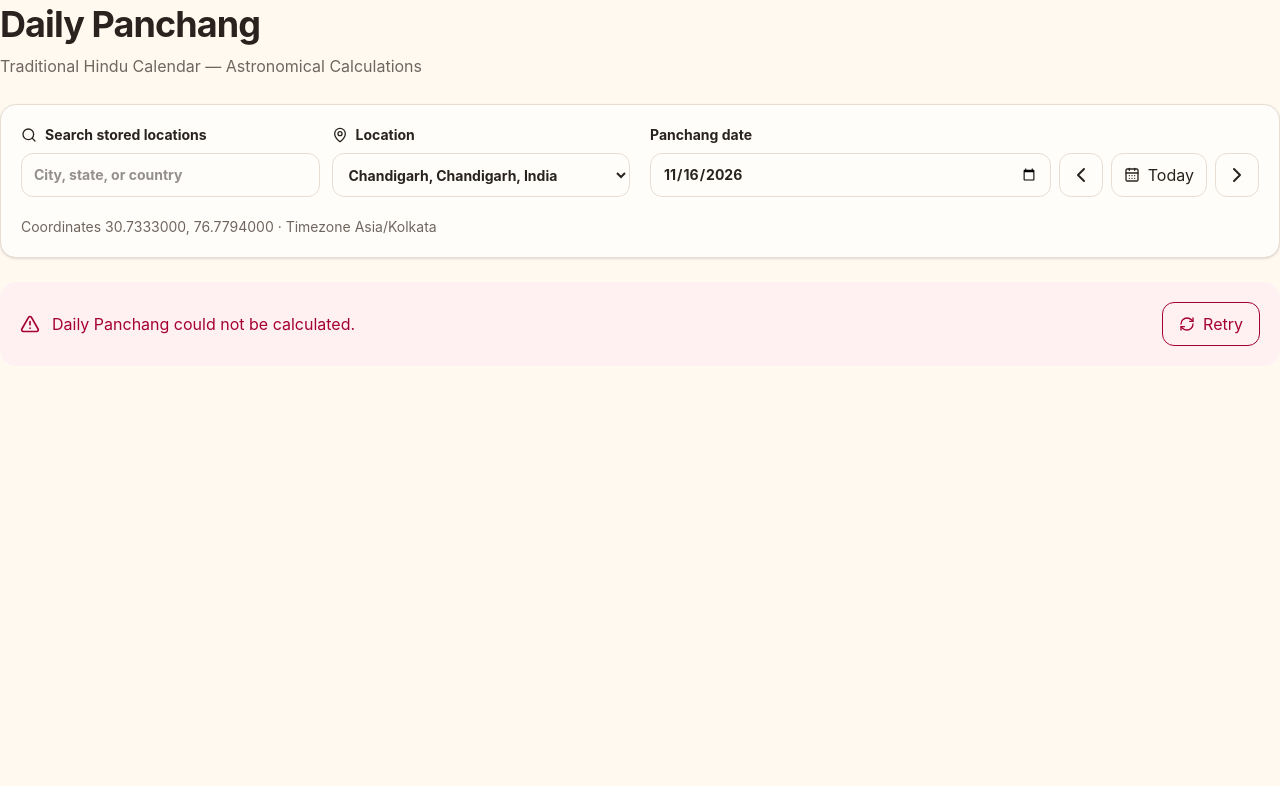
Test case: PanchangPage › shows retryable API errors without fabricated values
Expected: the message shows "Daily Panchang could not be calculated", left=52, top=314, right=355, bottom=334
Expected: the text "Shukla Chaturthi" is not shown
Click the button "Retry" at (1211, 324), box left=1162, top=302, right=1260, bottom=346
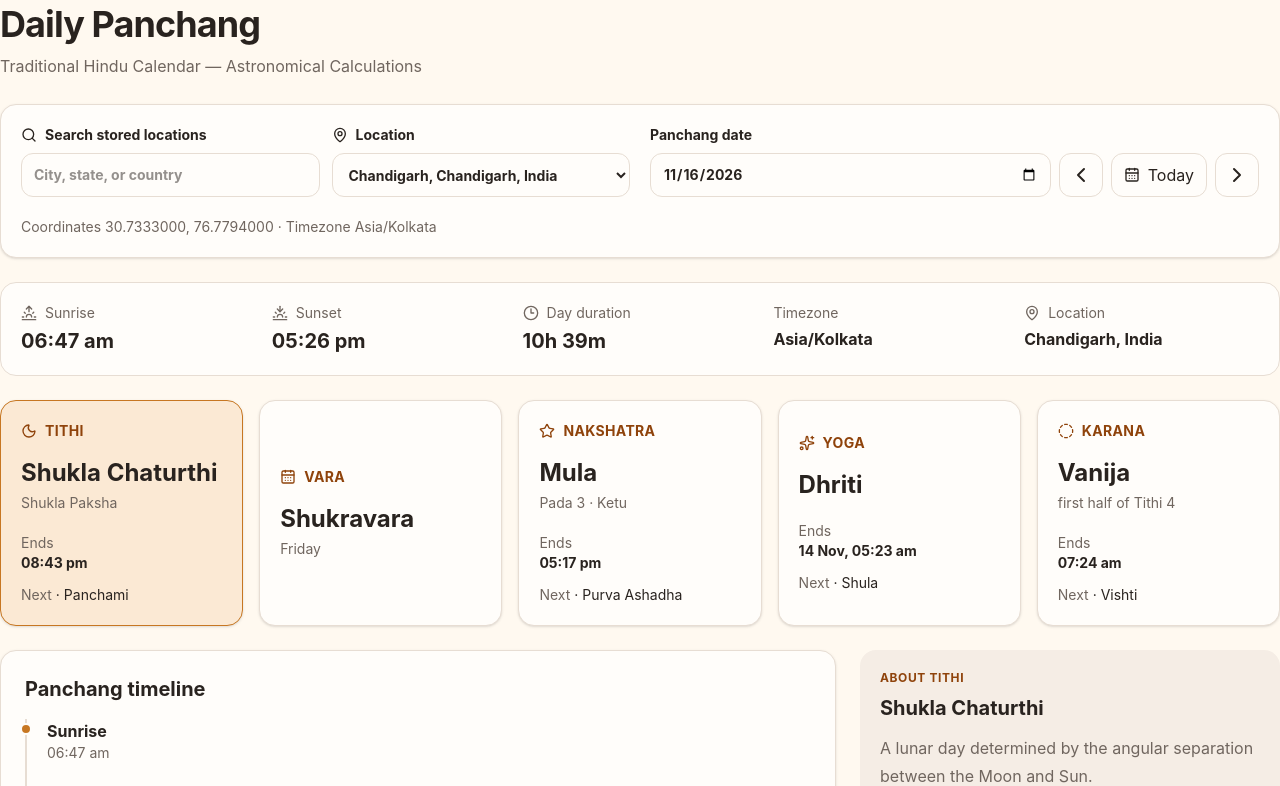
Expected: the text "Shukla Chaturthi" is shown, left=21, top=457, right=222, bottom=489
